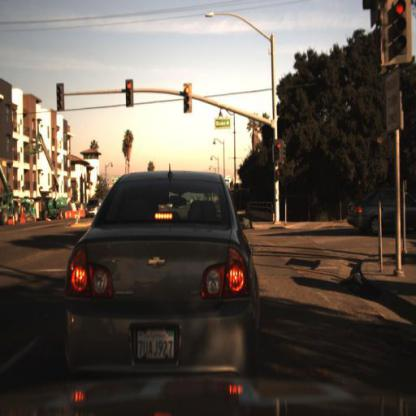car: (56, 159, 267, 414), (81, 188, 111, 224)
pedestrian: (16, 203, 23, 226)
trafficLight: (183, 82, 193, 116), (54, 83, 66, 111)
trafficLight-Red: (381, 1, 416, 77), (274, 133, 285, 169), (124, 77, 135, 108)
